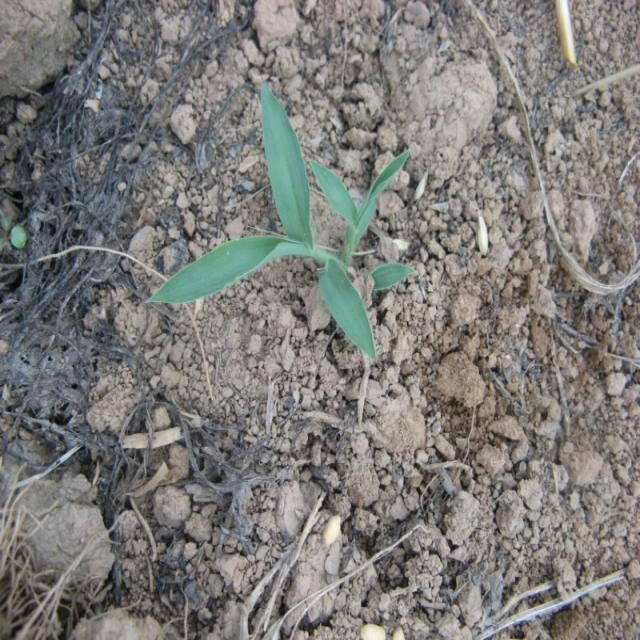bg: (142, 85, 418, 364)
